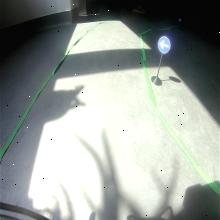left: (158, 35, 171, 54)
